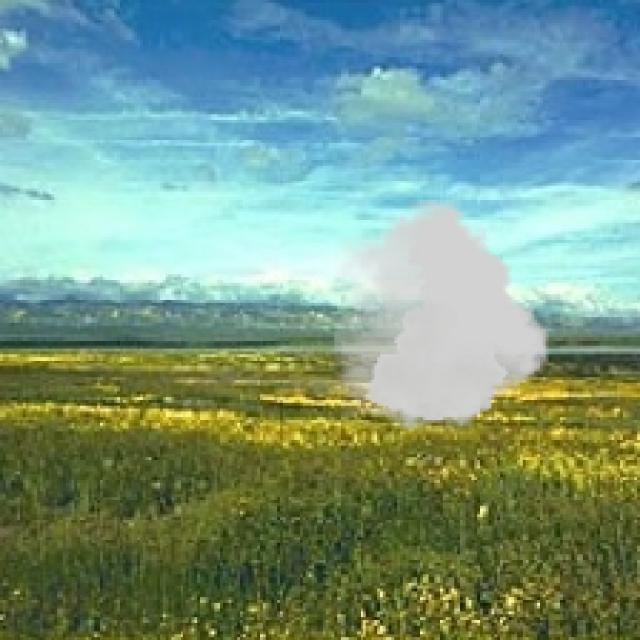Smoke: (334, 200, 549, 432)
